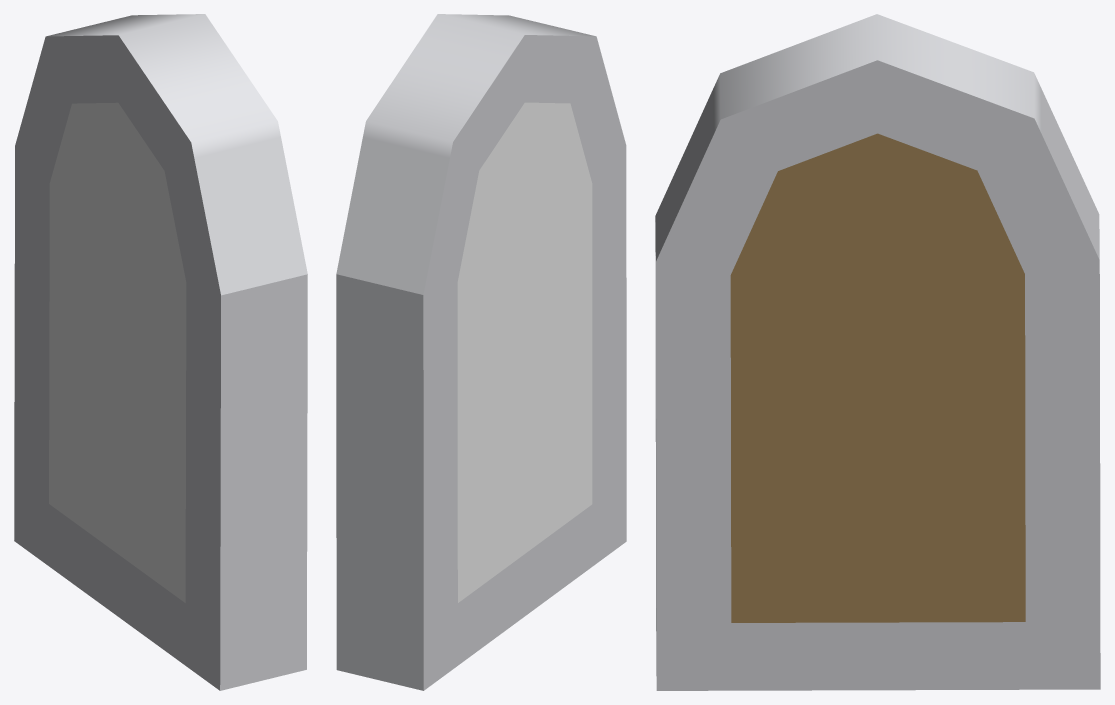
Rendered from Iron_Door_01_rot.fbx.
3 renders of one model, left to right at view 1: azimuth 30°, elevation 25°; view 2: azimuth 150°, elevation 25°; view 3: azimuth 270°, elevation 25°, orthographic. The views are drawn at different scales.
Parts seen in each view (by area): view 1: Mesh1_Iron_Door Model; view 2: Mesh1_Iron_Door Model; view 3: Mesh1_Iron_Door Model.
Boxes of the visible parts, x1,y1,x2,y2 form: Mesh1_Iron_Door Model: (14, 14, 307, 690); Mesh1_Iron_Door Model: (336, 14, 626, 690); Mesh1_Iron_Door Model: (655, 14, 1100, 690).
Bounding box in the file's own units: 0.3072 × 1.92 × 1.23.
